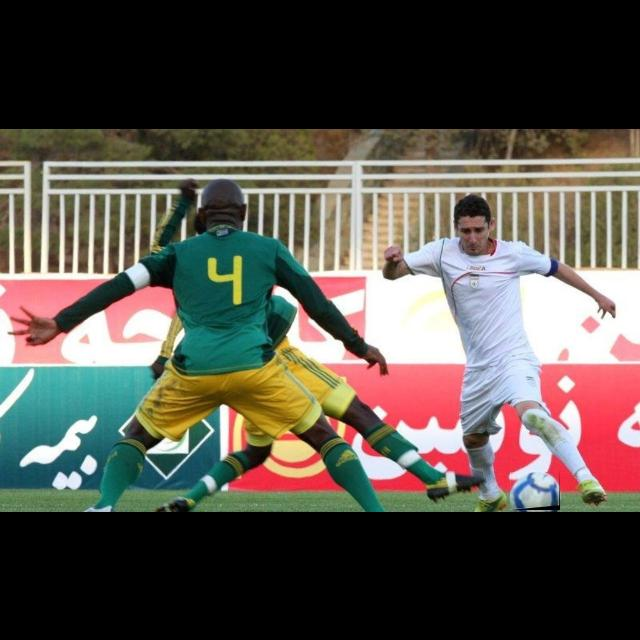Football: (510, 472, 560, 510)
